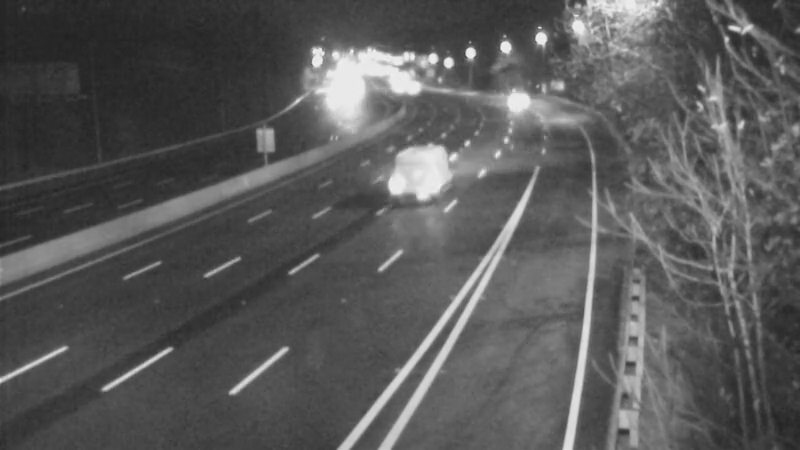vehicle: (377, 125, 457, 205), (478, 75, 528, 125)
